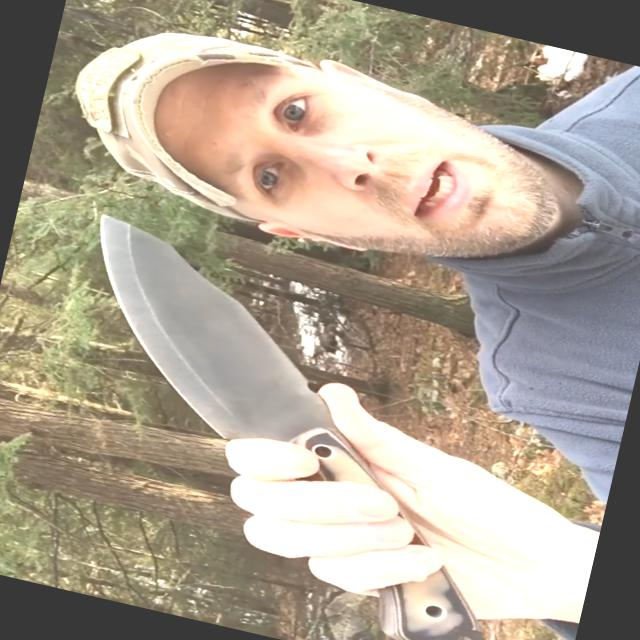knife: (36, 206, 468, 560)
